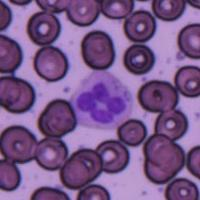N: (69, 70, 135, 130)
